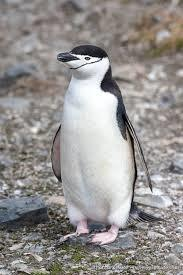chinstrap: (26, 30, 153, 246)
